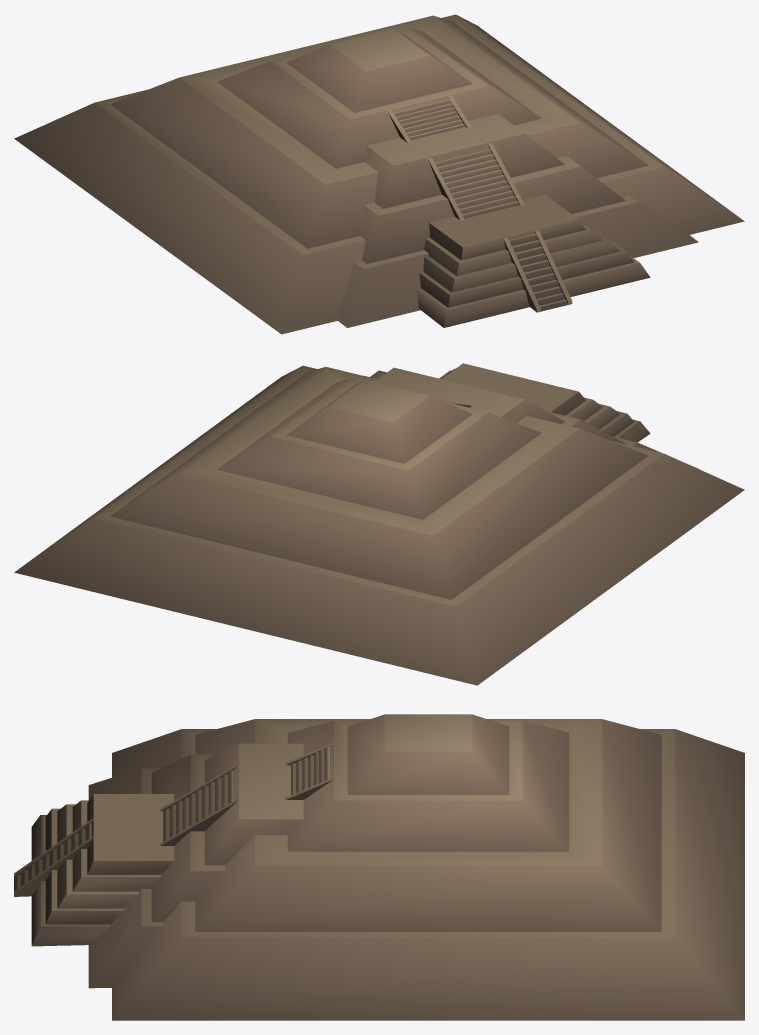
The model's file is buildings-historical-steppedpyramidhuge_v1.glb.
The picture shows the model from 3 angles, top to bottom: view 1: azimuth 30°, elevation 25°; view 2: azimuth 150°, elevation 25°; view 3: azimuth 270°, elevation 25°; orthographic projection. The views are drawn at different scales.
Parts seen in each view (by area): view 1: SteppedPyramidHuge.001; view 2: SteppedPyramidHuge.001; view 3: SteppedPyramidHuge.001.
Boxes of the visible parts, left/top/right/bottom form: SteppedPyramidHuge.001: left=14, top=14, right=744, bottom=334; SteppedPyramidHuge.001: left=14, top=363, right=744, bottom=685; SteppedPyramidHuge.001: left=14, top=714, right=744, bottom=1020.
Size of the model in its own units: 74.35 by 19.92 by 85.86.
